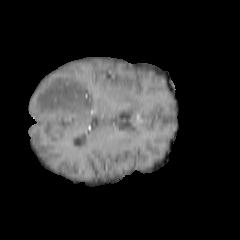glioma: (32, 77, 94, 124)
